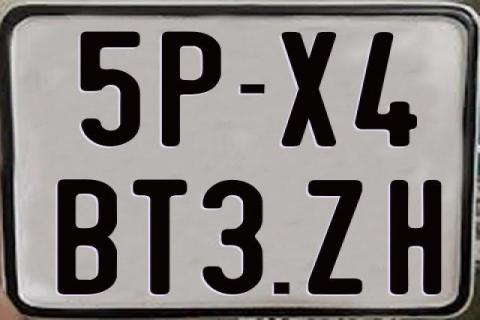0: (80, 29, 145, 149), (352, 32, 414, 150), (203, 180, 263, 298)
B: (55, 179, 114, 297)
H: (389, 179, 443, 299)
P: (159, 29, 222, 150)
T: (134, 180, 194, 298)
X: (281, 31, 338, 148)
Z: (306, 180, 363, 298)
